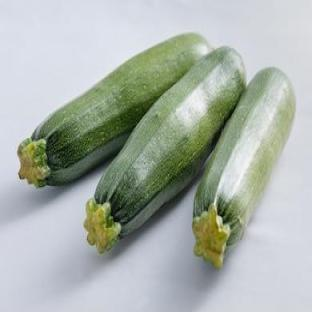Zucchini: (84, 47, 245, 251), (18, 34, 211, 185), (193, 69, 295, 267)
